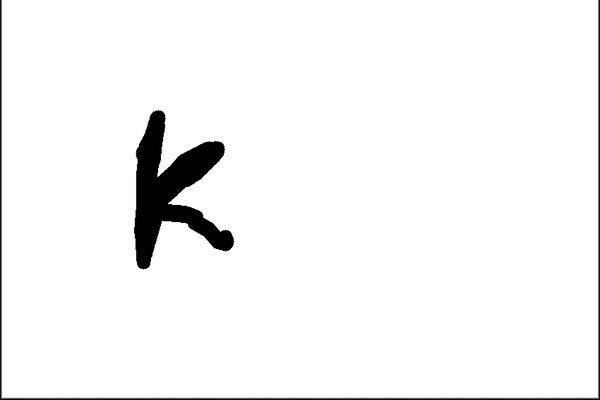K: (126, 106, 242, 275)
